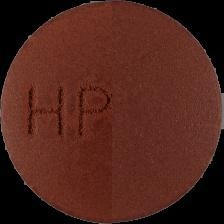23155-051: (0, 0, 224, 224)
